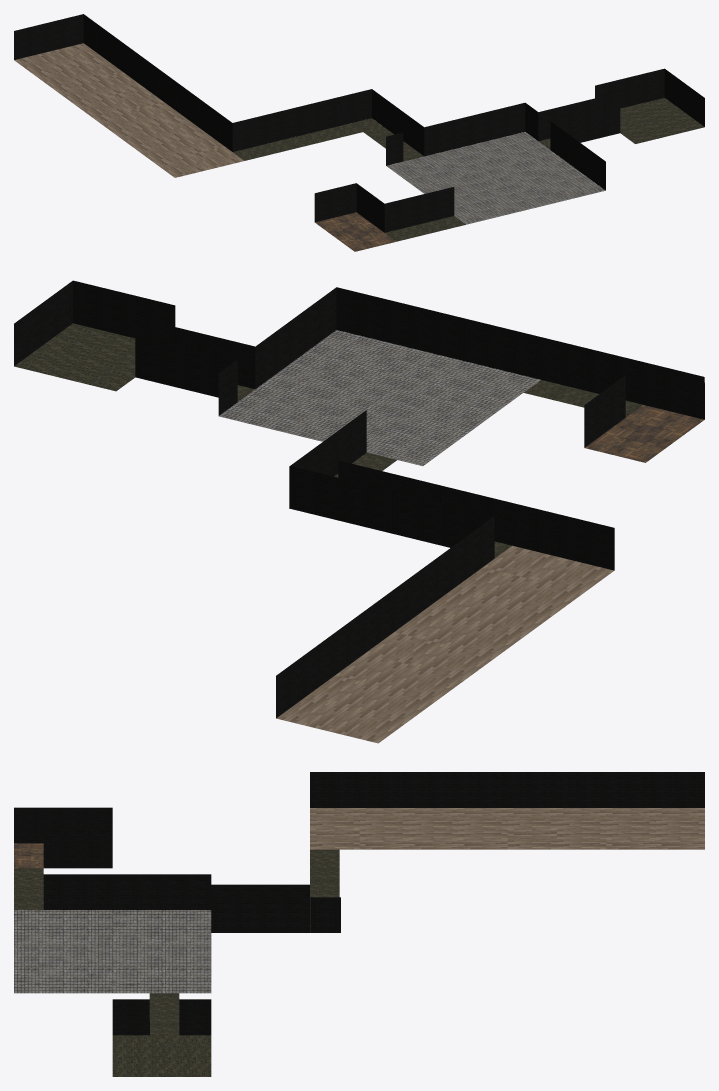
The picture shows the model from 3 angles, top to bottom: view 1: azimuth 30°, elevation 25°; view 2: azimuth 150°, elevation 25°; view 3: azimuth 270°, elevation 25°; orthographic projection. The views are drawn at different scales.
Parts seen in each view (by area): view 1: lrfloor_Plane, widehallfloor02_Plane.030, widehallfloor01_Plane.027, mrfloor_Plane.001, hall2wall06_Plane.025, hall3wall02_Plane.046, lrwall01_Plane.014, widehallwall06_Plane.034, hall2wall07_Plane.022, mrwall01_Plane.002, deadendfloor_Plane.047, hallwall02_Plane.013 (+16 smaller); view 2: lrfloor_Plane, widehallfloor02_Plane.030, widehallfloor01_Plane.027, mrfloor_Plane.001, hall2wall07_Plane.022, lrwall04_Plane.017, widehallwall01_Plane.028, lrwall03_Plane.016, hall3wall01_Plane.045, mrwall02_Plane.003, hallwall01_Plane.010, deadendfloor_Plane.047 (+15 smaller); view 3: lrfloor_Plane, widehallfloor02_Plane.030, widehallfloor01_Plane.027, mrfloor_Plane.001, widehallwall04_Plane.032, lrwall06_Plane.018, widehallwall05_Plane.033, widehallwall03_Plane.031, widehallwall02_Plane.029, hall2wall02_Plane.007, deadendwall02_Plane.049, mrwall04_Plane.009 (+8 smaller).
Part boxes in pixels (x1,y1,x2,y2): lrfloor_Plane: (386, 132, 605, 224); widehallfloor02_Plane.030: (14, 43, 163, 118); widehallfloor01_Plane.027: (95, 102, 243, 177); mrfloor_Plane.001: (620, 98, 704, 143); hall2wall06_Plane.025: (232, 106, 302, 151); hall3wall02_Plane.046: (384, 187, 454, 232); lrwall01_Plane.014: (455, 103, 525, 148); widehallwall06_Plane.034: (14, 14, 83, 59); hall2wall07_Plane.022: (302, 89, 371, 134); mrwall01_Plane.002: (595, 68, 664, 108); deadendfloor_Plane.047: (315, 212, 396, 251); hallwall02_Plane.013: (550, 104, 620, 149); lrfloor_Plane: (219, 330, 540, 465); widehallfloor02_Plane.030: (276, 632, 495, 743); widehallfloor01_Plane.027: (394, 545, 613, 656); mrfloor_Plane.001: (14, 323, 135, 391); hall2wall07_Plane.022: (290, 466, 392, 533); lrwall04_Plane.017: (336, 287, 438, 354); widehallwall01_Plane.028: (512, 503, 614, 570); lrwall03_Plane.016: (439, 312, 540, 379); hall3wall01_Plane.045: (541, 337, 643, 404); mrwall02_Plane.003: (73, 280, 175, 338); hallwall01_Plane.010: (135, 334, 237, 397); deadendfloor_Plane.047: (585, 405, 704, 462); lrfloor_Plane: (14, 910, 211, 993); widehallfloor02_Plane.030: (507, 808, 704, 849); widehallfloor01_Plane.027: (310, 808, 507, 849); mrfloor_Plane.001: (112, 1035, 211, 1076); widehallwall04_Plane.032: (507, 772, 606, 807); lrwall06_Plane.018: (112, 874, 211, 909); widehallwall05_Plane.033: (606, 772, 704, 807); widehallwall03_Plane.031: (409, 772, 507, 807); widehallwall02_Plane.029: (310, 772, 408, 807); hall2wall02_Plane.007: (211, 897, 309, 932); deadendwall02_Plane.049: (14, 807, 112, 843); mrwall04_Plane.009: (112, 999, 211, 1035).
Bounding box in the file's own units: 645 × 40 × 700.
Materials: 5 (5 with a texture image).
